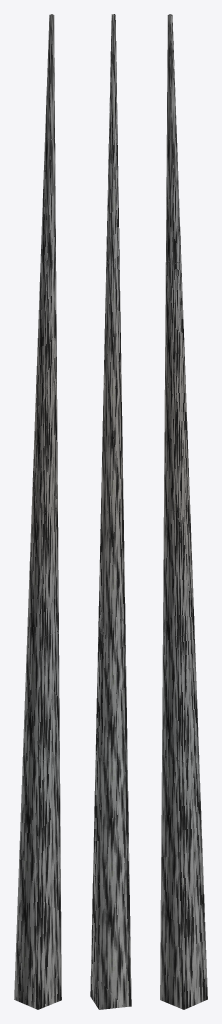
The model's file is spruce_bark_l2.gltf.
3 views of the same model, side by side, from view 1: azimuth 90°, elevation 25°; view 2: azimuth 150°, elevation 25°; view 3: azimuth 270°, elevation 25° (orthographic).
Parts seen in each view (by area): view 1: spruce_bark_l2; view 2: spruce_bark_l2; view 3: spruce_bark_l2.
Boxes of the visible parts, x1,y1,x2,y2 form: spruce_bark_l2: (14, 14, 61, 1009); spruce_bark_l2: (90, 14, 131, 1009); spruce_bark_l2: (160, 14, 207, 1009).
Bounding box in the file's own units: 0.572 × 13 × 0.572.
Materials: 1 (1 with a texture image).
